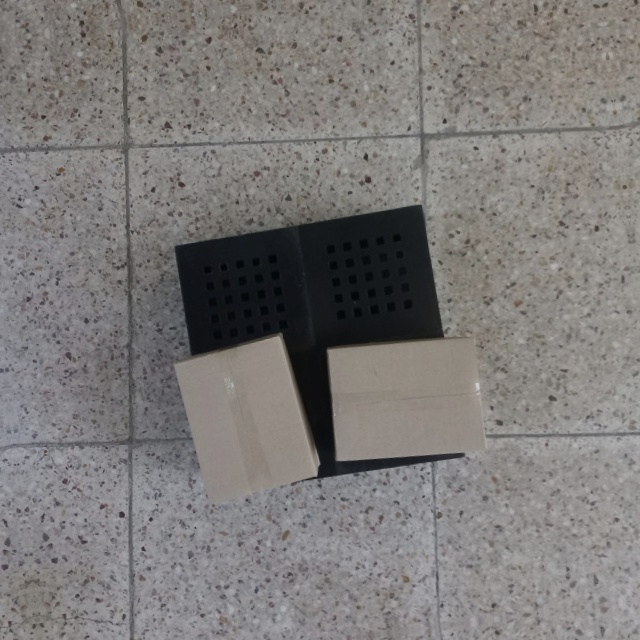box: (170, 331, 322, 509), (319, 326, 492, 469)
